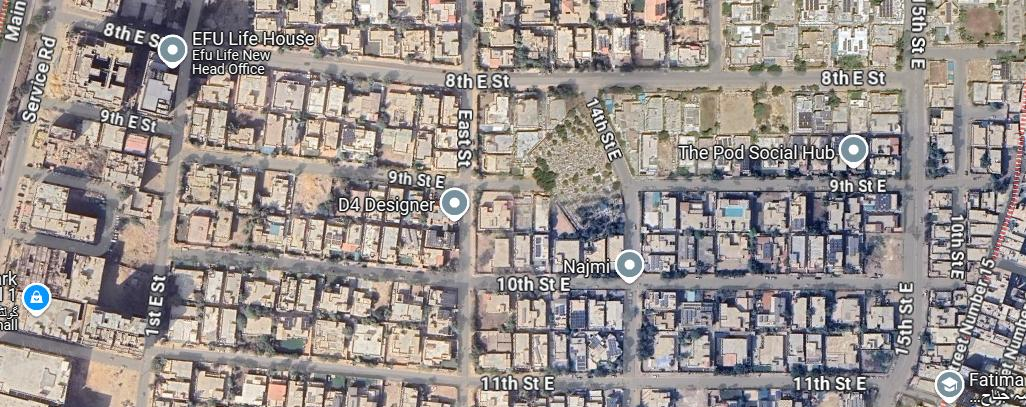Buildings: (183, 56, 462, 172), (159, 264, 457, 370), (177, 160, 461, 270), (604, 90, 903, 179), (641, 291, 908, 374), (641, 193, 907, 275), (6, 174, 165, 262), (478, 93, 621, 190), (475, 292, 625, 378), (477, 192, 626, 278), (25, 107, 170, 195), (48, 27, 182, 122), (928, 85, 956, 180), (929, 190, 953, 279)
